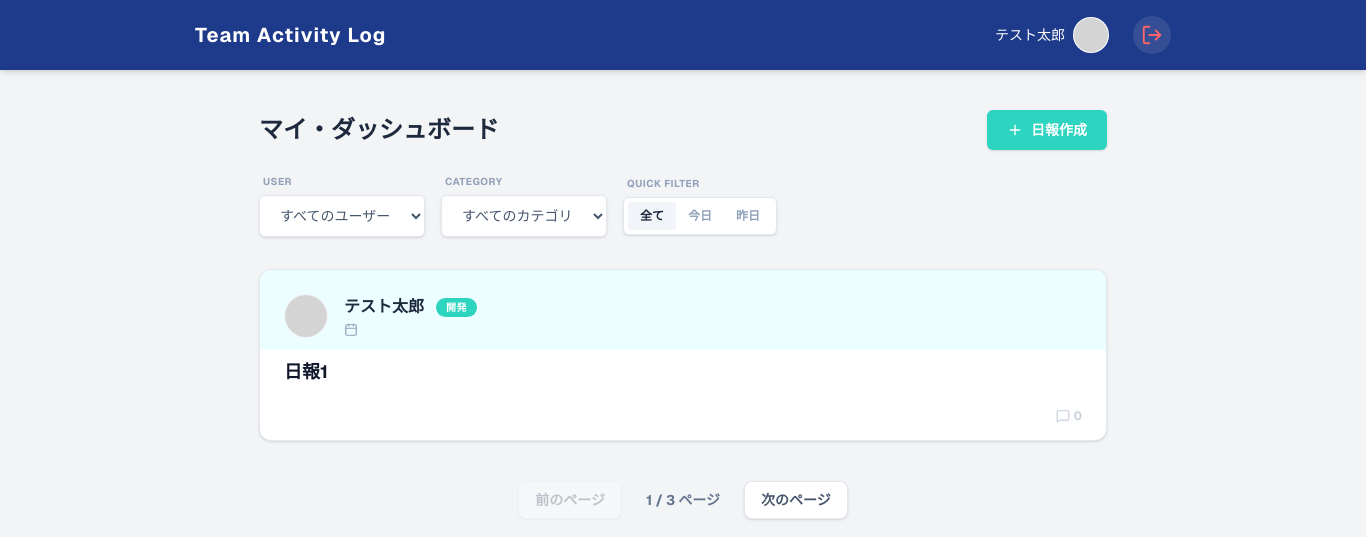
Test: 「次のページ」ボタンを押すと、ページが切り替わる
ボタンをクリック
Click the button "次のページ": (796, 500) top-left (744, 481), bottom-right (848, 519)
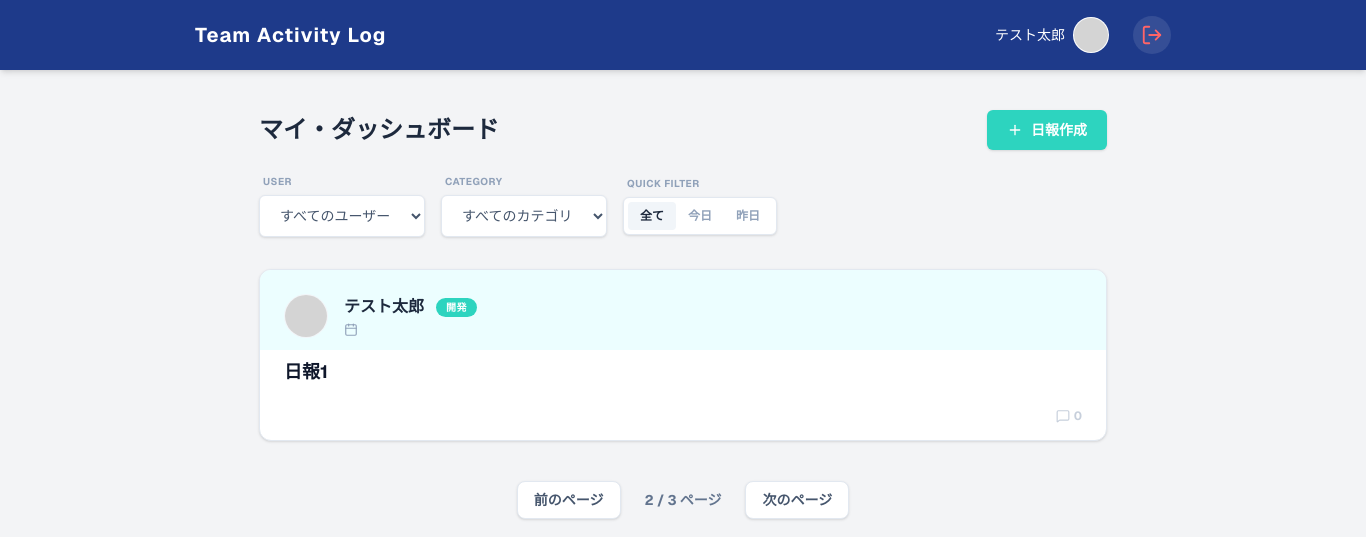
Check: the text "2 / 3 ページ" is shown, box top-left (644, 490), bottom-right (721, 510)
